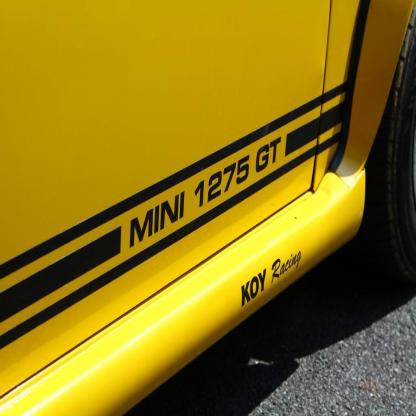Car: (7, 24, 386, 416)
